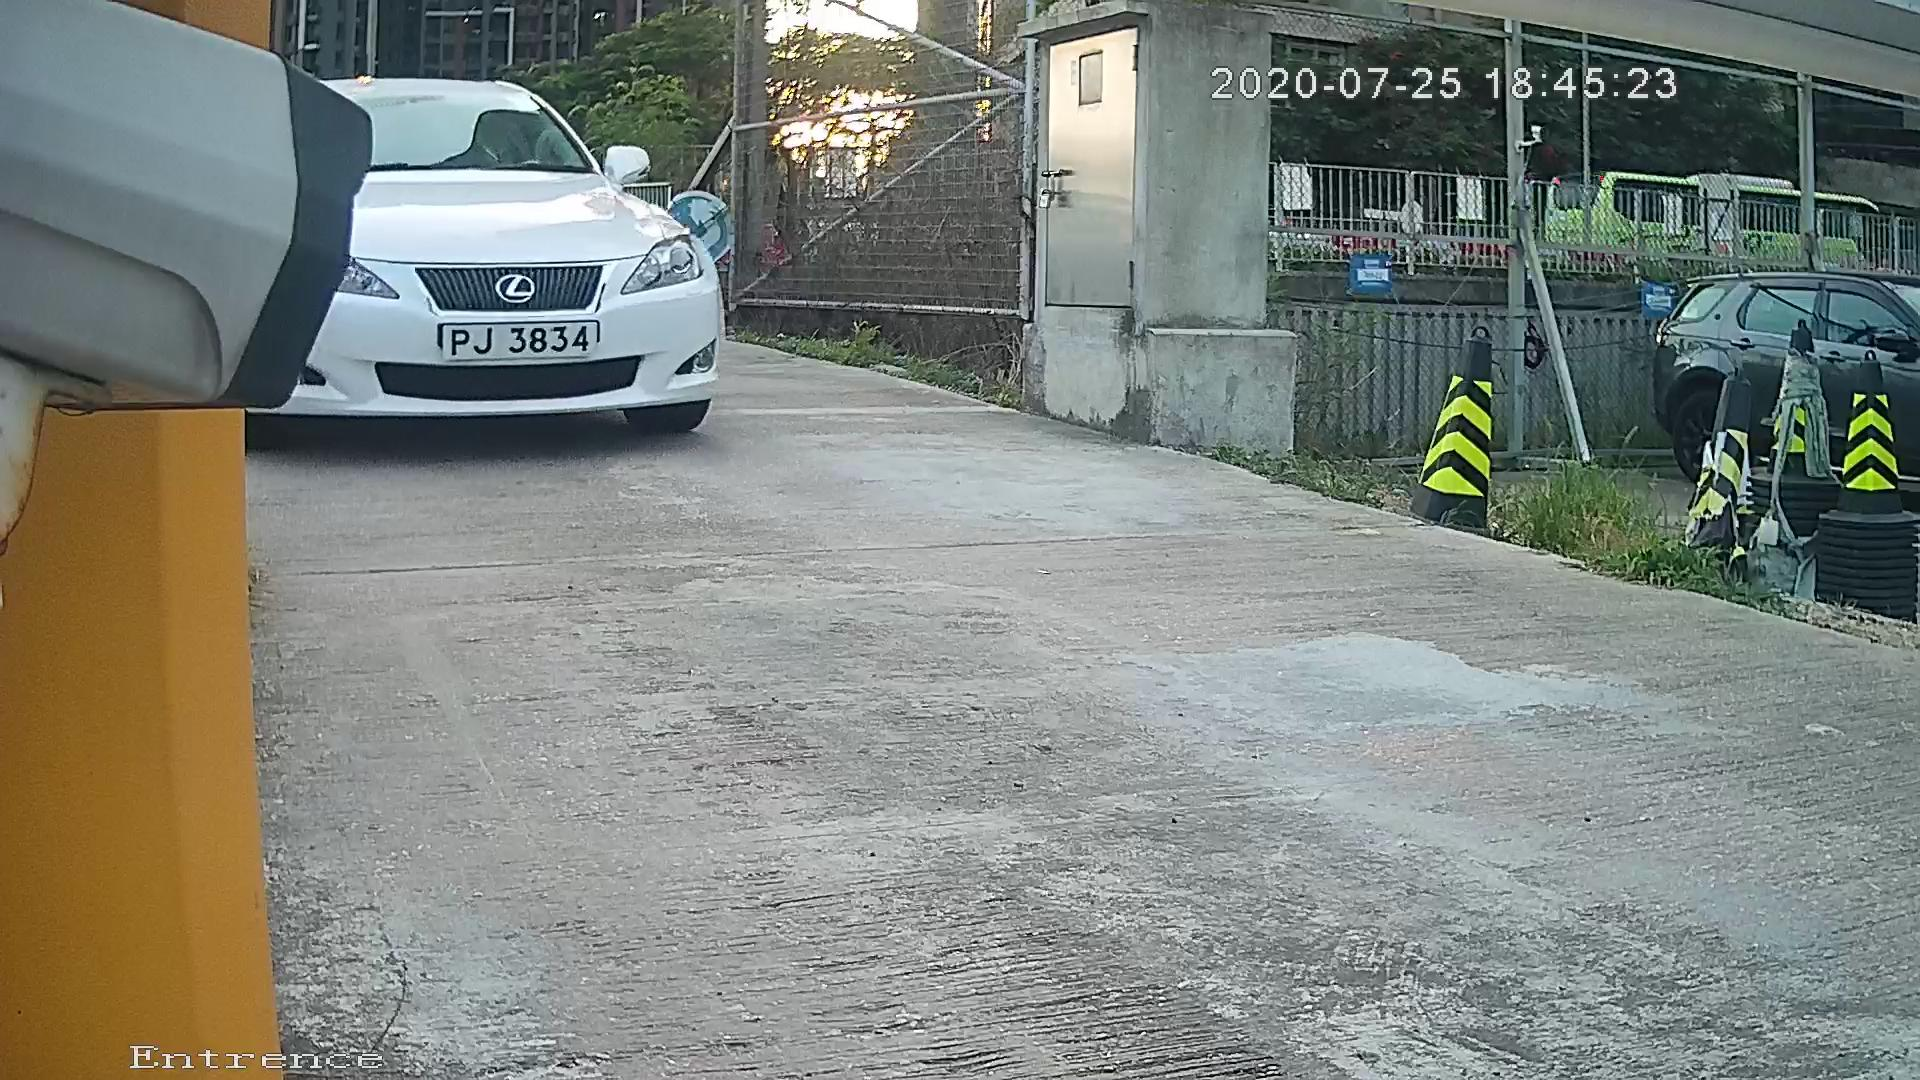Car: (138, 39, 875, 473)
License Plate: (427, 303, 610, 375)
